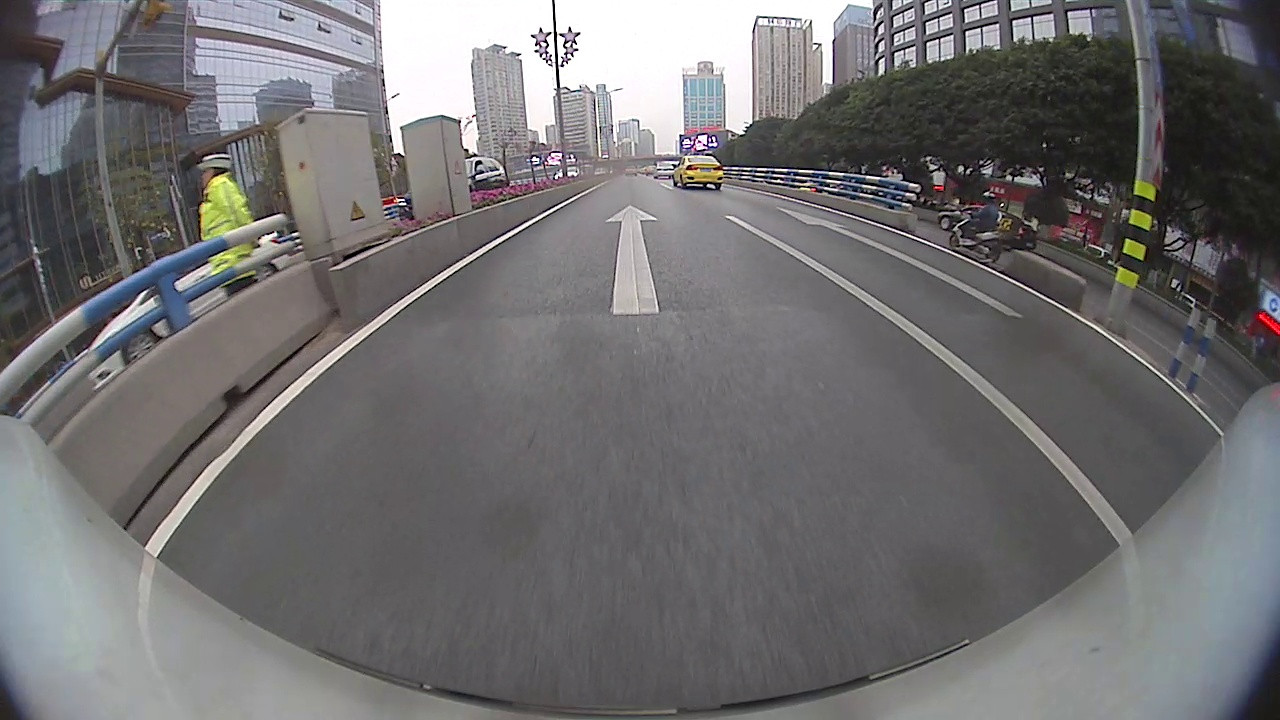car: (84, 223, 296, 396), (395, 154, 512, 224), (935, 203, 1039, 254), (670, 148, 727, 193)
front: (123, 329, 160, 365)
person: (196, 151, 248, 301)
rider: (945, 189, 1005, 266)
